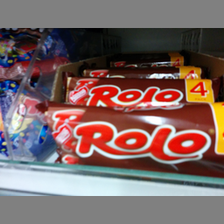chocolate: (41, 96, 223, 170), (62, 70, 220, 112)
